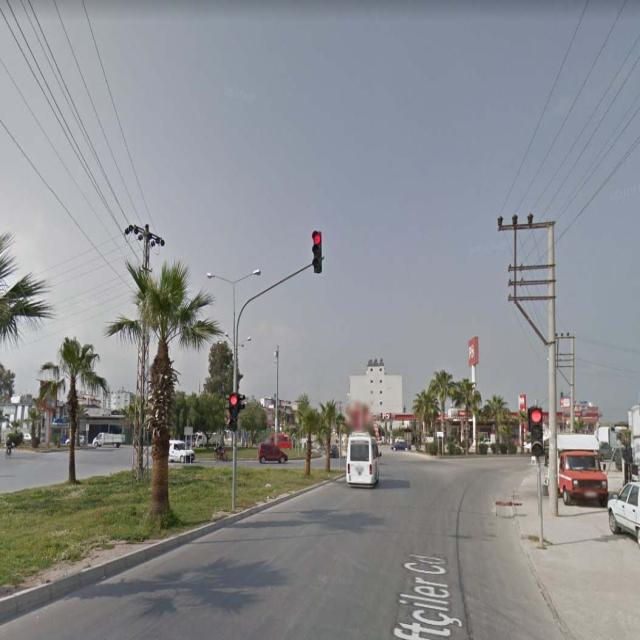kirmizi: (530, 408, 544, 456), (313, 232, 322, 269), (232, 395, 238, 429)
